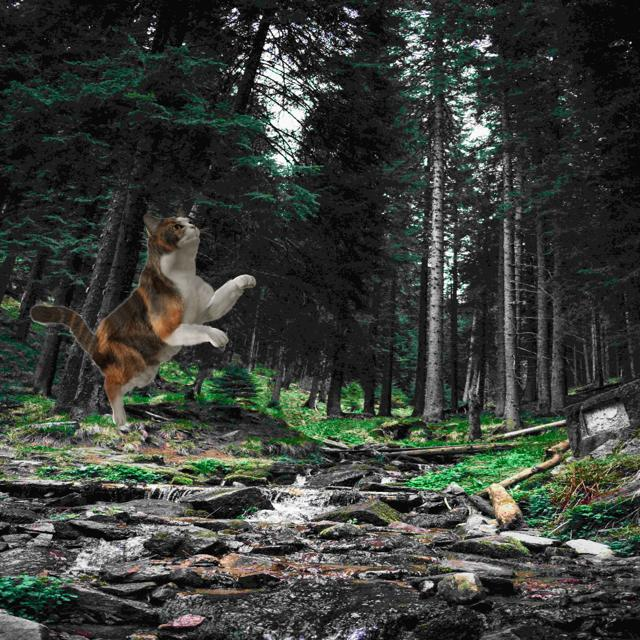cat: (31, 201, 255, 429)
